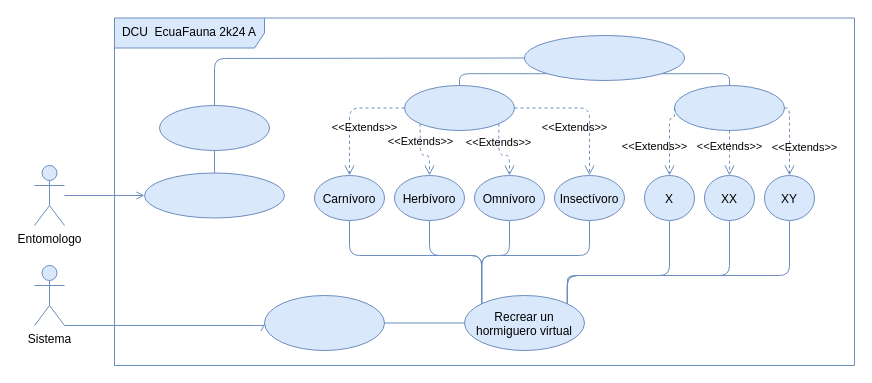
The diagram is 872 pixels wide and 383 high, and some of its shapes have lost their labels. The shapes that lost their labels are listed below. From the top down, each one's centre as x and y in pixels, then its label:
At (x=604, y=57): "Seleccionar el tipo de alimentacion".
At (x=214, y=127): "Crear larvas de hormigas".
At (x=459, y=107): "Ingesta Nativa".
At (x=729, y=107): "GenoAlimentos".
At (x=214, y=195): "Registrar sus datos: nombres y cedula".
At (x=324, y=322): "Guardar en la bases de datos".
